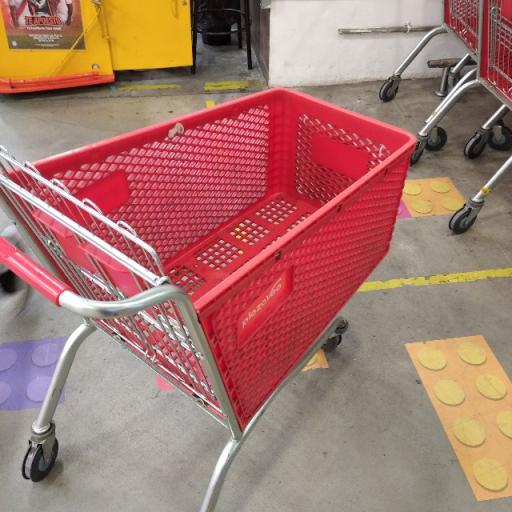shopping_cart: (0, 82, 423, 512), (408, 0, 512, 233), (378, 0, 480, 152)
